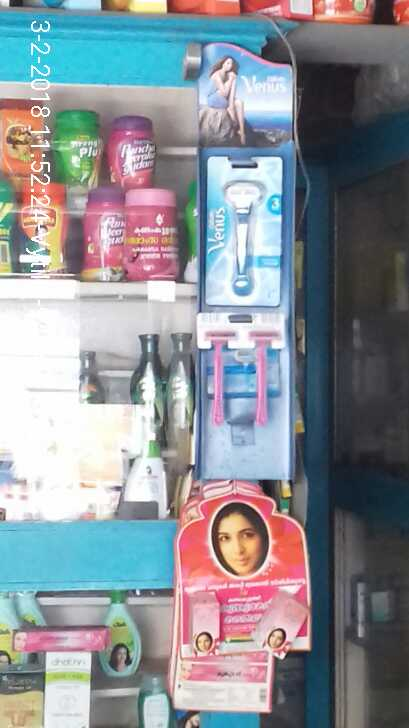venus: (206, 159, 287, 301)
